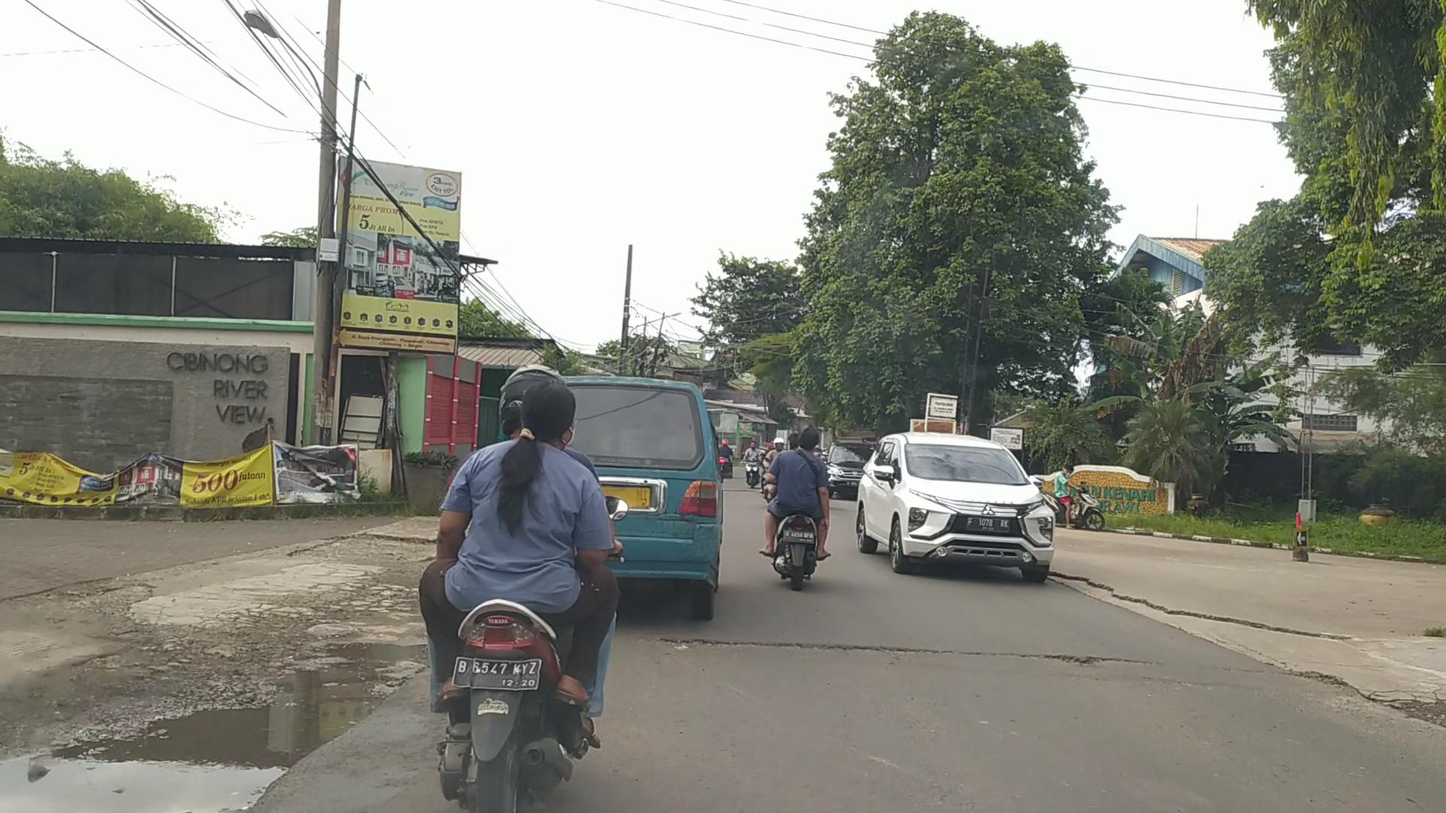pothole: (0, 637, 412, 813)
